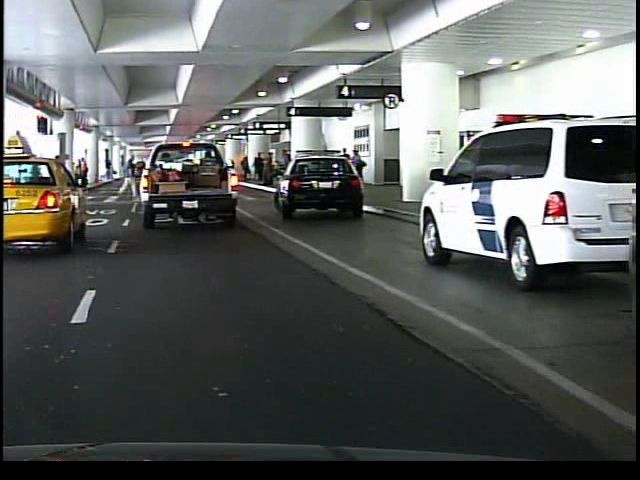person: (112, 152, 139, 203)
